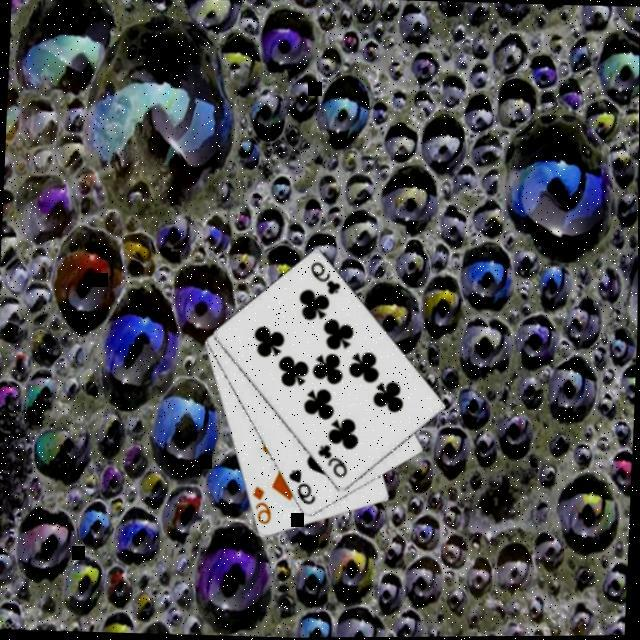6S: (286, 464, 321, 508)
9C: (316, 441, 353, 480), (309, 258, 346, 297)
9D: (250, 482, 278, 527)
